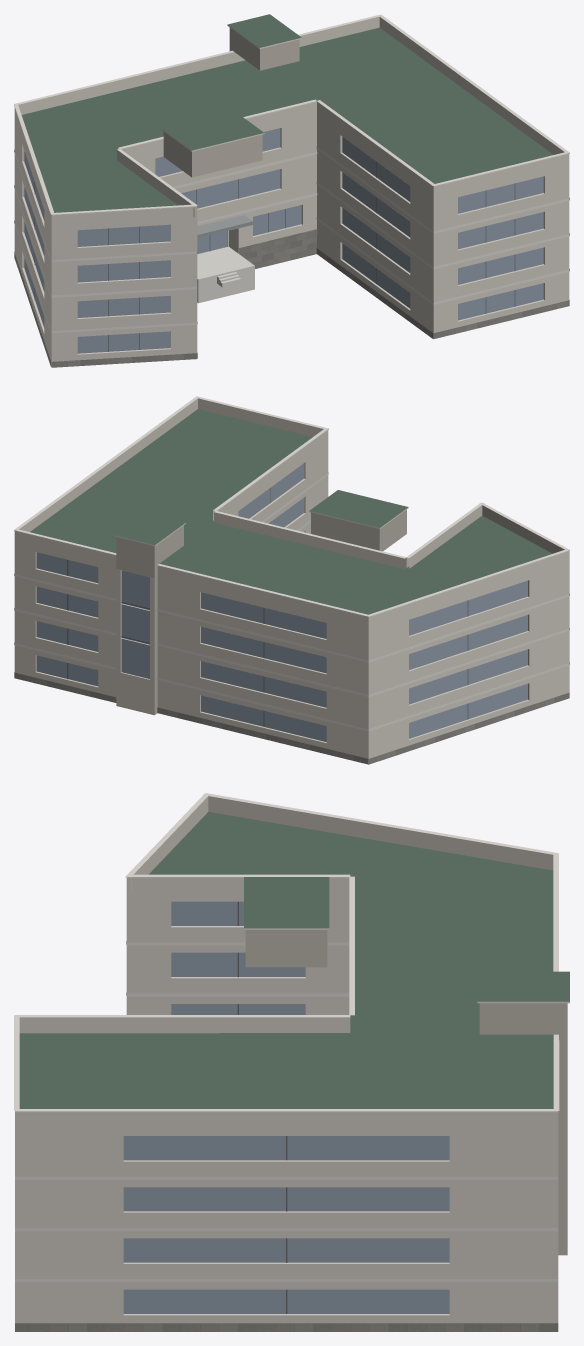
3 views of the same model, one above another, from view 1: azimuth 30°, elevation 25°; view 2: azimuth 150°, elevation 25°; view 3: azimuth 270°, elevation 25° (orthographic). The views are drawn at different scales.
Parts seen in each view (by area): view 1: b941_1__wall, b941_1__roof, b941_1__glass, b941_1__parapet, b941_1__trim, b941_1__base, b941_1__wall2, b941_1__entranceStair, b941_1__canopy, b941_1__frame; view 2: b941_1__wall, b941_1__roof, b941_1__glass, b941_1__parapet, b941_1__trim, b941_1__wall2, b941_1__base, b941_1__frame; view 3: b941_1__roof, b941_1__wall, b941_1__glass, b941_1__parapet, b941_1__trim, b941_1__wall2, b941_1__base.
Boxes of the visible parts, <box> form: b941_1__wall: <box>14,111,569,366</box>; b941_1__roof: <box>21,14,553,268</box>; b941_1__glass: <box>24,128,543,353</box>; b941_1__parapet: <box>14,16,569,225</box>; b941_1__trim: <box>14,14,569,333</box>; b941_1__base: <box>14,229,569,367</box>; b941_1__wall2: <box>163,28,299,177</box>; b941_1__entranceStair: <box>197,247,254,303</box>; b941_1__canopy: <box>197,215,253,238</box>; b941_1__frame: <box>34,162,515,351</box>; b941_1__wall: <box>14,439,569,763</box>; b941_1__roof: <box>30,409,552,614</box>; b941_1__glass: <box>36,463,527,741</box>; b941_1__parapet: <box>14,398,569,626</box>; b941_1__trim: <box>14,396,569,731</box>; b941_1__wall2: <box>116,509,406,714</box>; b941_1__base: <box>14,672,569,764</box>; b941_1__frame: <box>67,488,468,726</box>; b941_1__roof: <box>19,812,569,1108</box>; b941_1__wall: <box>15,892,558,1323</box>; b941_1__glass: <box>123,901,449,1313</box>; b941_1__parapet: <box>15,796,558,1126</box>; b941_1__trim: <box>14,793,569,1282</box>; b941_1__wall2: <box>245,930,567,1255</box>; b941_1__base: <box>15,1323,558,1331</box>.
Bounding box in the file's own units: 47.98 × 18.39 × 35.42.
11 materials, 1 textured.
